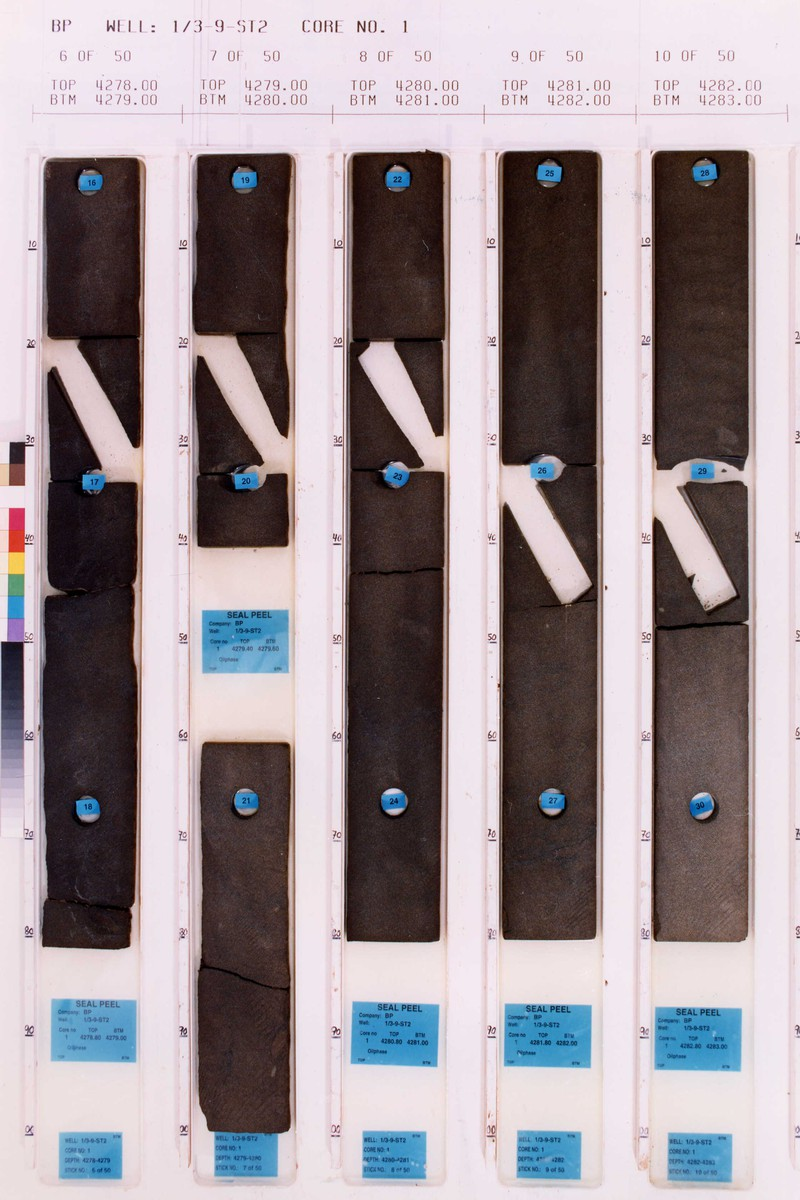core: (646, 148, 755, 941), (495, 148, 600, 945), (41, 157, 144, 954), (345, 153, 442, 945), (194, 740, 303, 1135), (195, 153, 293, 556)
